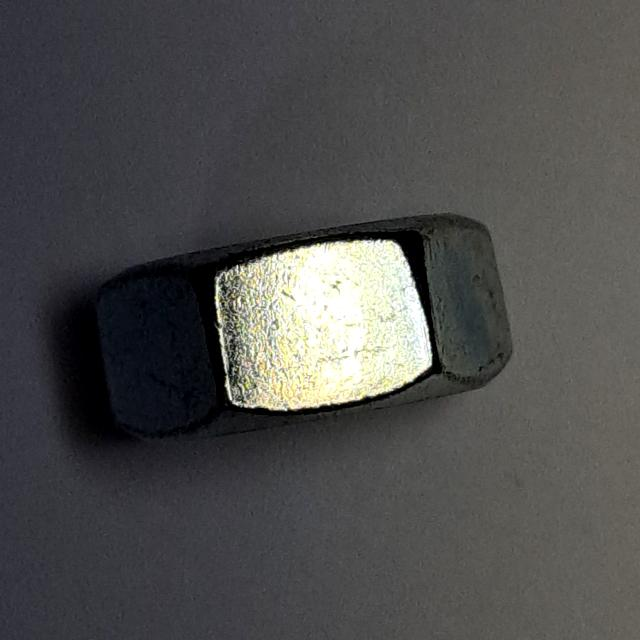Side_Excellent: (83, 203, 530, 455)
